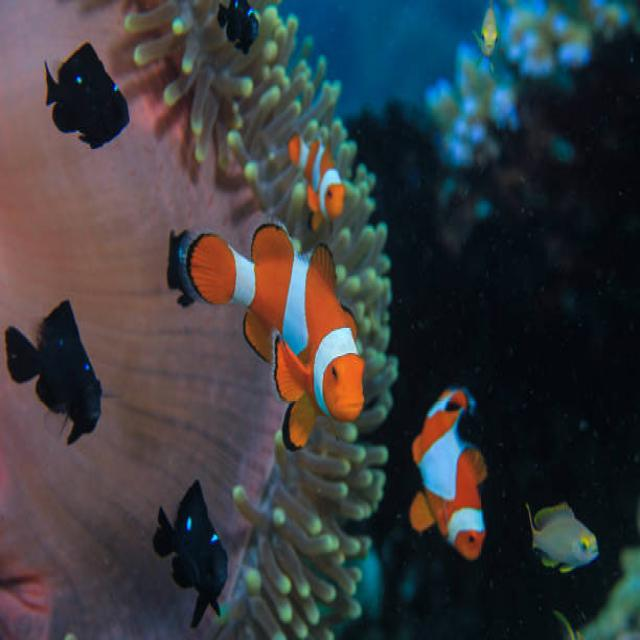ClownFish: (188, 212, 364, 450), (405, 384, 486, 565), (284, 130, 344, 217)
